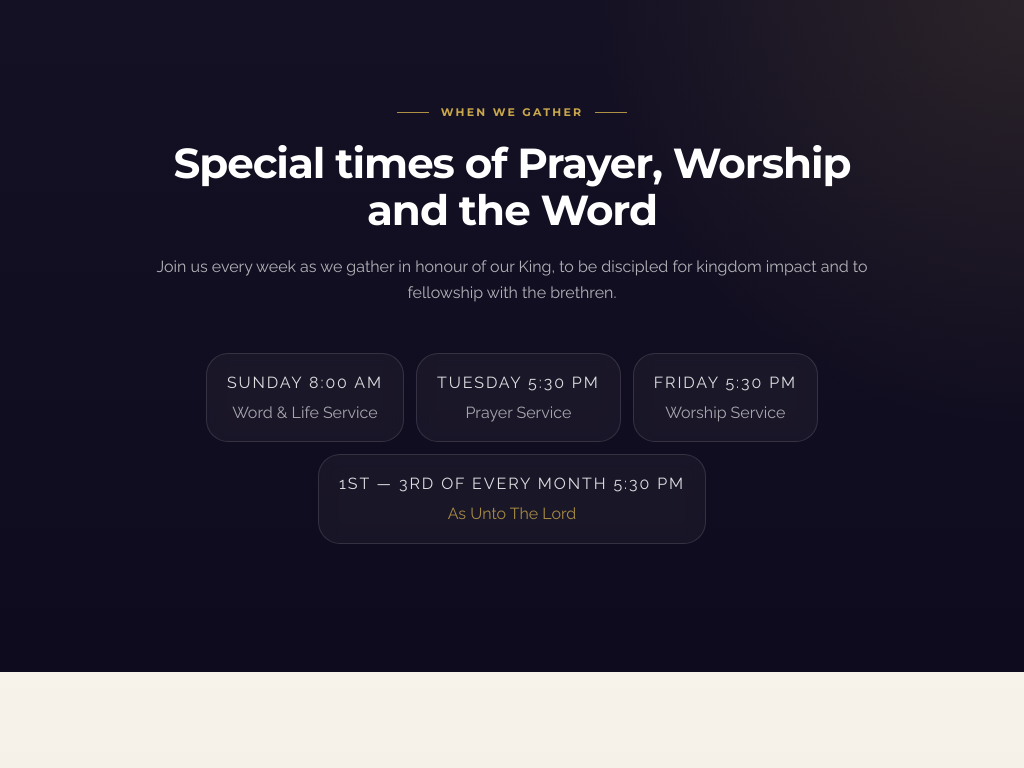
Scenario: ServiceSchedule › clicking a tab updates the detail card heading
Click the button "Tuesday 5:30 PM Prayer Service". click: click(518, 398)
box: [416,353,621,442]
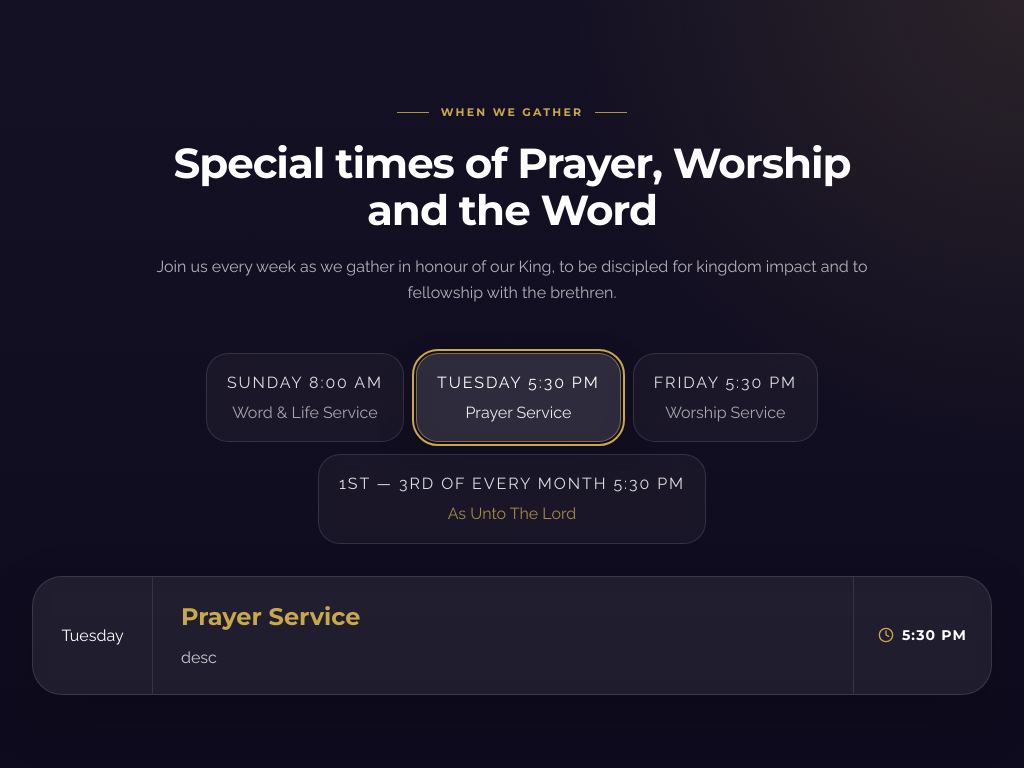
Result: the element showing "Tuesday Prayer Service desc 5:30 PM" is shown at [32,576,992,695]
